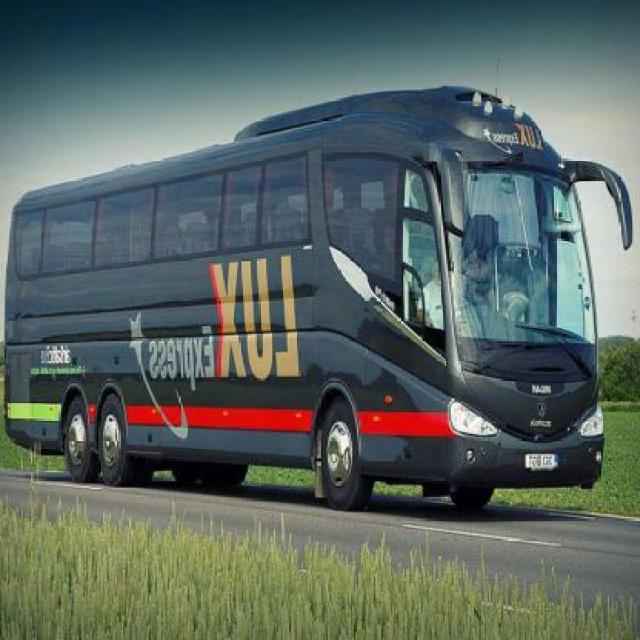bus: (14, 86, 633, 513)
